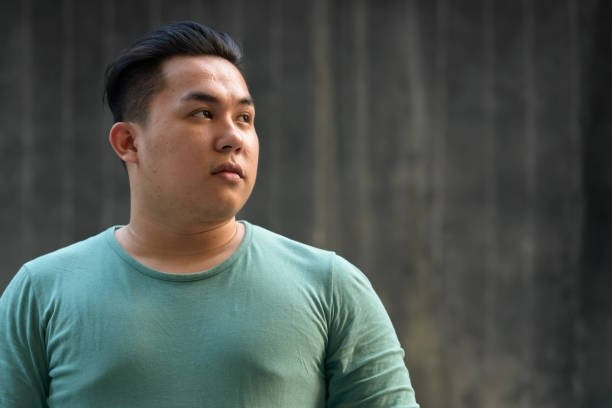face_no_mask: (105, 45, 260, 217)
